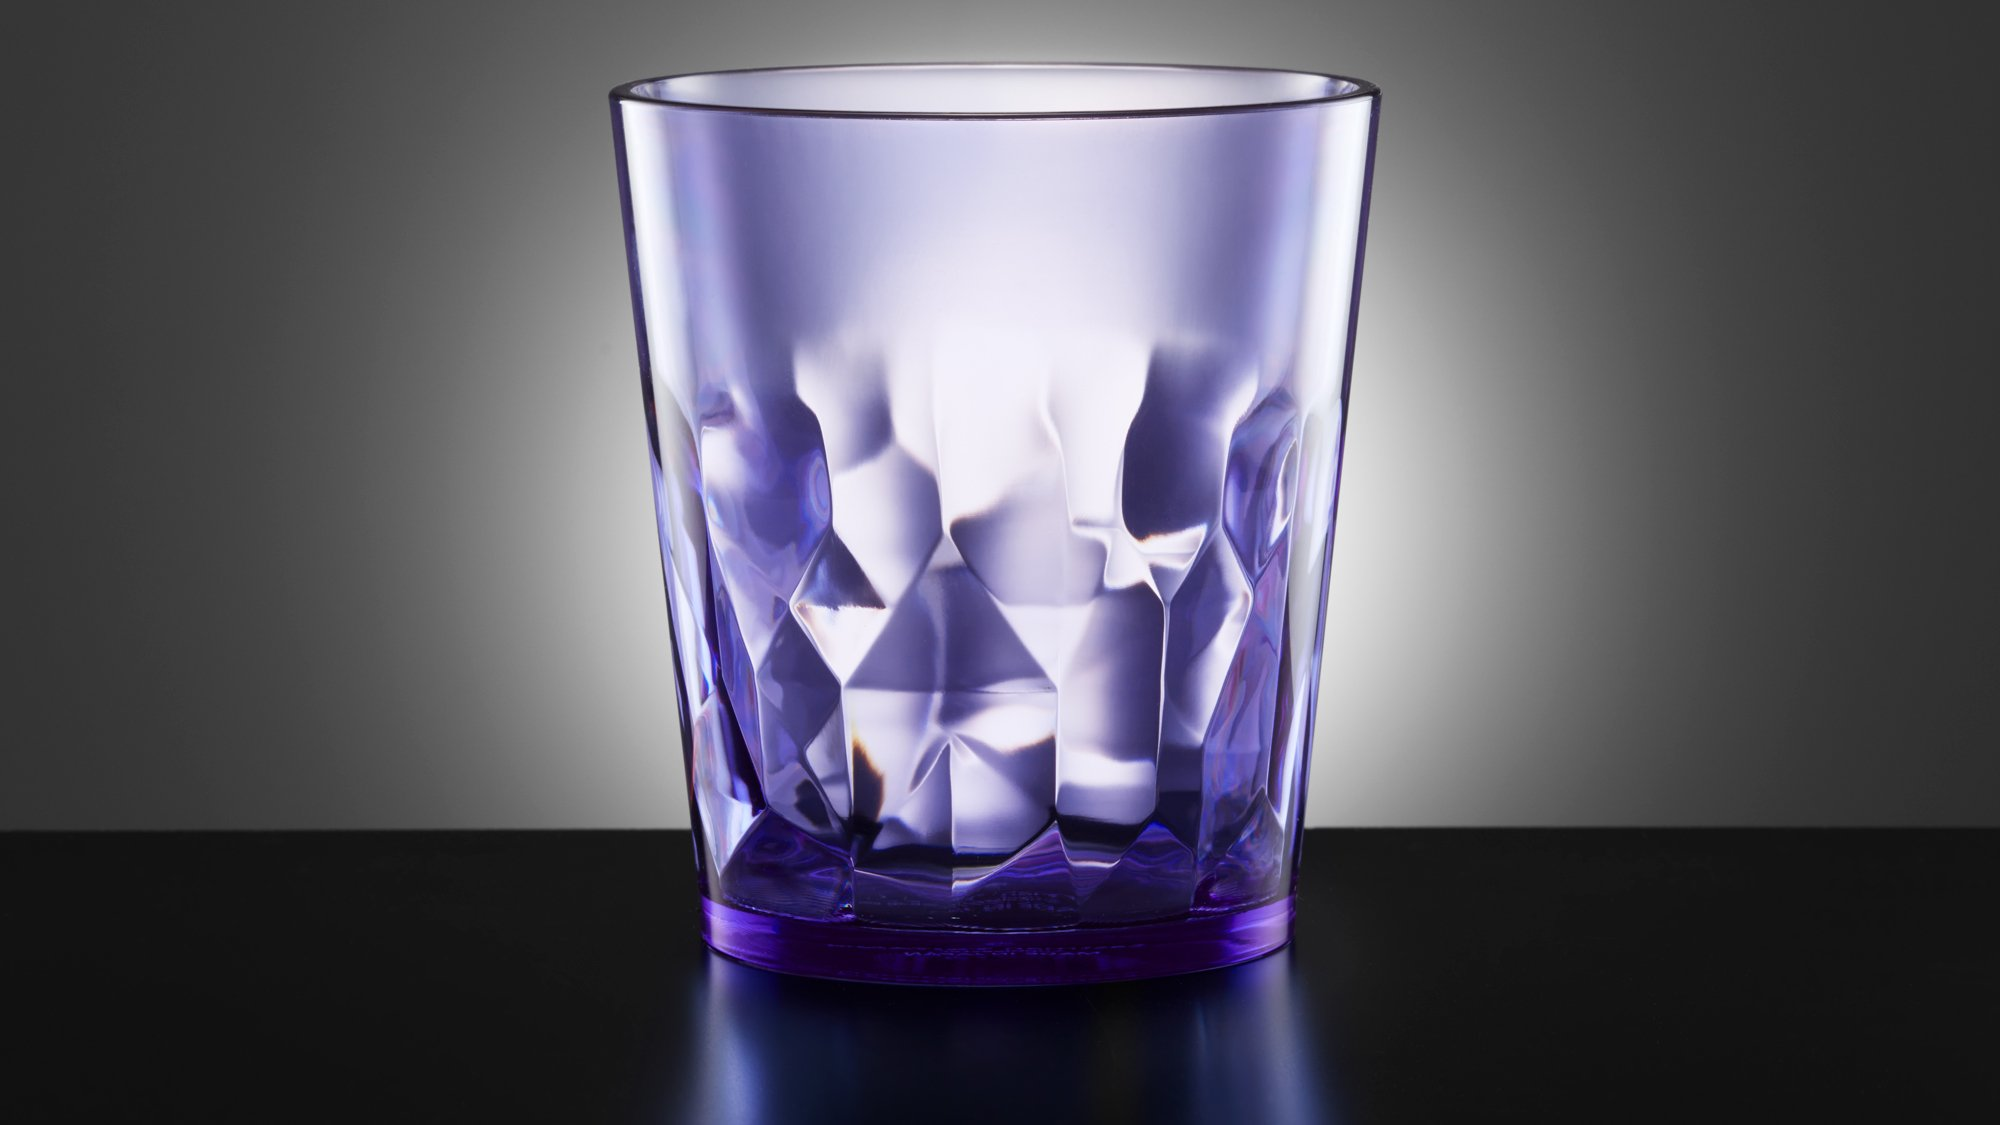plastic_glass: (602, 51, 1398, 1008)
